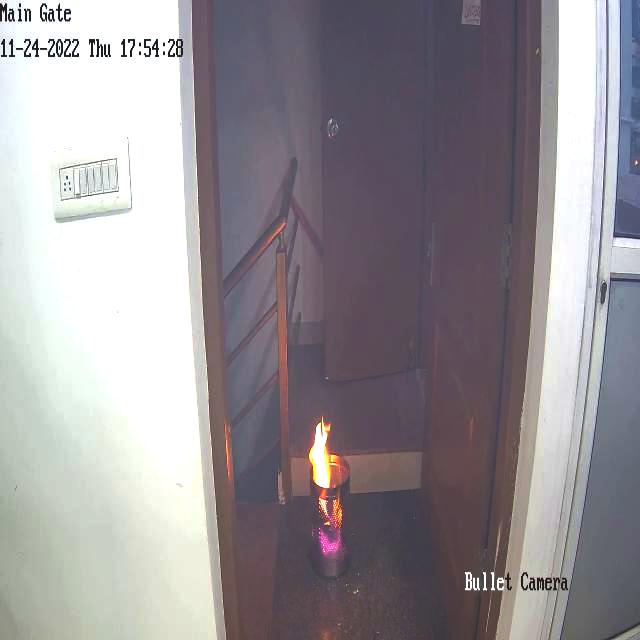fire: (308, 418, 339, 487)
smoke: (325, 338, 382, 408), (330, 270, 382, 328), (328, 193, 370, 256), (292, 342, 322, 417)
